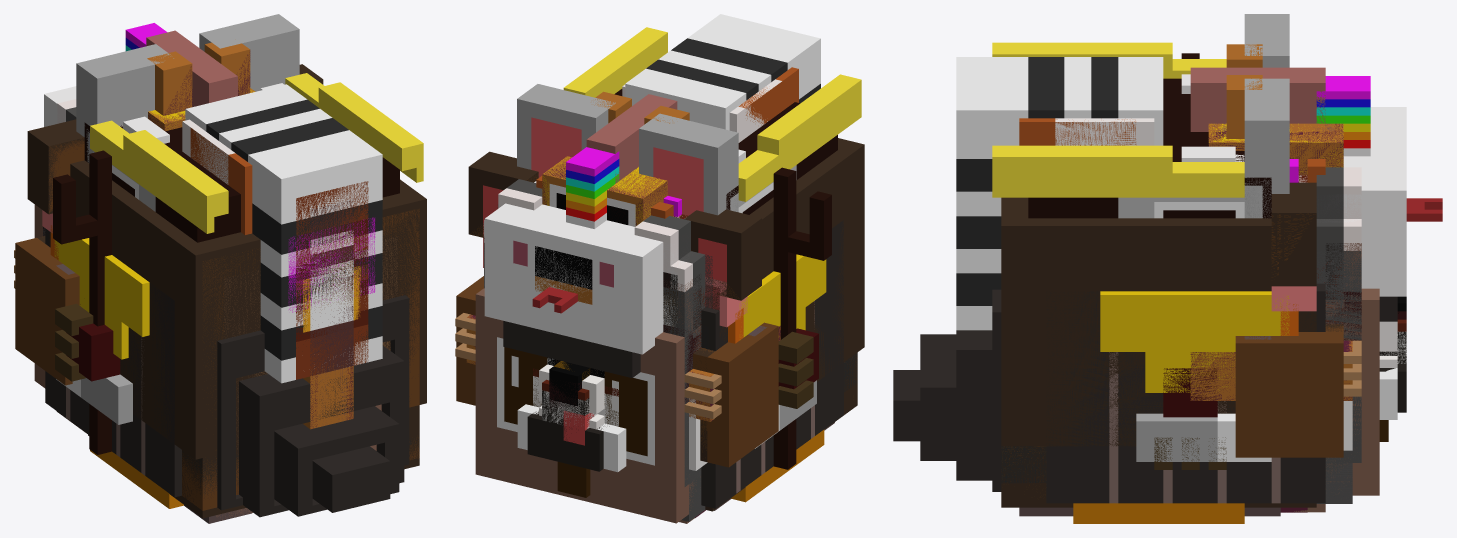
Rendered from SharedModel.fbx.
3 renders of one model, left to right at view 1: azimuth 30°, elevation 25°; view 2: azimuth 150°, elevation 25°; view 3: azimuth 270°, elevation 25°, orthographic. The views are drawn at different scales.
Parts seen in each view (by area): view 1: chr_BRONENOSETC3, chr_MEDVED, chr_ENOT, chr_PINGVIN, chr_HOMYAK, chr_KROLIK1, chr_DEMON, chr_KR_PANDA, chr_CIPLENOK, chr_KENGURU, chr_LEMUR, chr_EDINOROG (+5 smaller); view 2: chr_BRONENOSETC3, chr_EDINOROG, chr_MEDVED, chr_ENOT, chr_KROLIK1, chr_PINGVIN, chr_LEMUR, chr_HOMYAK, chr_DEMON, chr_CIPLENOK, chr_KENGURU, chr_DRAKON (+6 smaller); view 3: chr_MEDVED, chr_BRONENOSETC3, chr_ENOT, chr_PINGVIN, chr_CIPLENOK, chr_HOMYAK, chr_EDINOROG, chr_KROLIK1, chr_LEMUR, chr_KENGURU, chr_DRAKON, chr_DEMON (+6 smaller).
Part boxes in pixels (<box>): chr_BRONENOSETC3: <box>34,204,409,519</box>; chr_MEDVED: <box>27,64,426,518</box>; chr_ENOT: <box>43,84,382,383</box>; chr_PINGVIN: <box>84,73,423,508</box>; chr_HOMYAK: <box>15,80,419,510</box>; chr_KROLIK1: <box>56,14,299,424</box>; chr_DEMON: <box>53,150,120,454</box>; chr_KR_PANDA: <box>296,181,368,379</box>; chr_CIPLENOK: <box>54,30,254,359</box>; chr_KENGURU: <box>147,42,353,429</box>; chr_LEMUR: <box>43,99,353,375</box>; chr_EDINOROG: <box>44,23,375,312</box>; chr_BRONENOSETC3: <box>475,220,843,523</box>; chr_EDINOROG: <box>484,147,745,354</box>; chr_MEDVED: <box>468,138,864,511</box>; chr_ENOT: <box>484,14,820,520</box>; chr_KROLIK1: <box>517,84,816,448</box>; chr_PINGVIN: <box>563,27,861,502</box>; chr_LEMUR: <box>484,179,705,521</box>; chr_HOMYAK: <box>456,174,857,467</box>; chr_DEMON: <box>773,167,831,469</box>; chr_CIPLENOK: <box>542,94,826,339</box>; chr_KENGURU: <box>466,91,780,421</box>; chr_DRAKON: <box>455,158,780,517</box>; chr_MEDVED: <box>1001,182,1343,507</box>; chr_BRONENOSETC3: <box>893,243,1397,512</box>; chr_ENOT: <box>956,57,1406,503</box>; chr_PINGVIN: <box>992,42,1271,523</box>; chr_CIPLENOK: <box>1100,67,1343,392</box>; chr_HOMYAK: <box>1002,213,1343,497</box>; chr_EDINOROG: <box>1181,74,1406,296</box>; chr_KROLIK1: <box>1136,14,1289,461</box>; chr_LEMUR: <box>1316,167,1406,503</box>; chr_KENGURU: <box>1190,44,1352,400</box>; chr_DRAKON: <box>1190,123,1442,512</box>; chr_DEMON: <box>1154,53,1226,469</box>.
Size of the model in its own units: 42 by 49 by 61.
